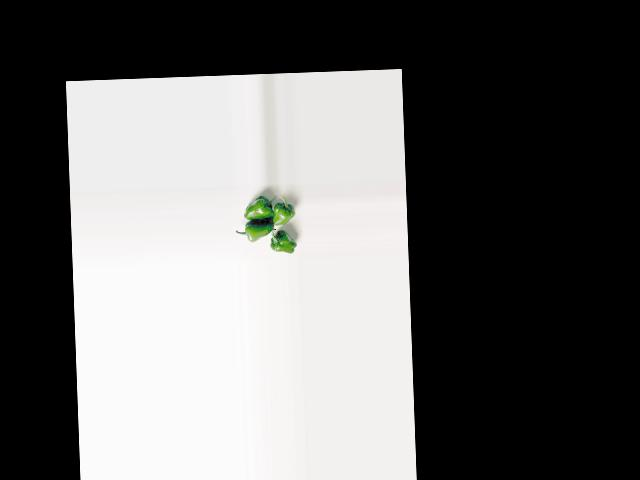bell_pepper: (273, 197, 295, 227)
